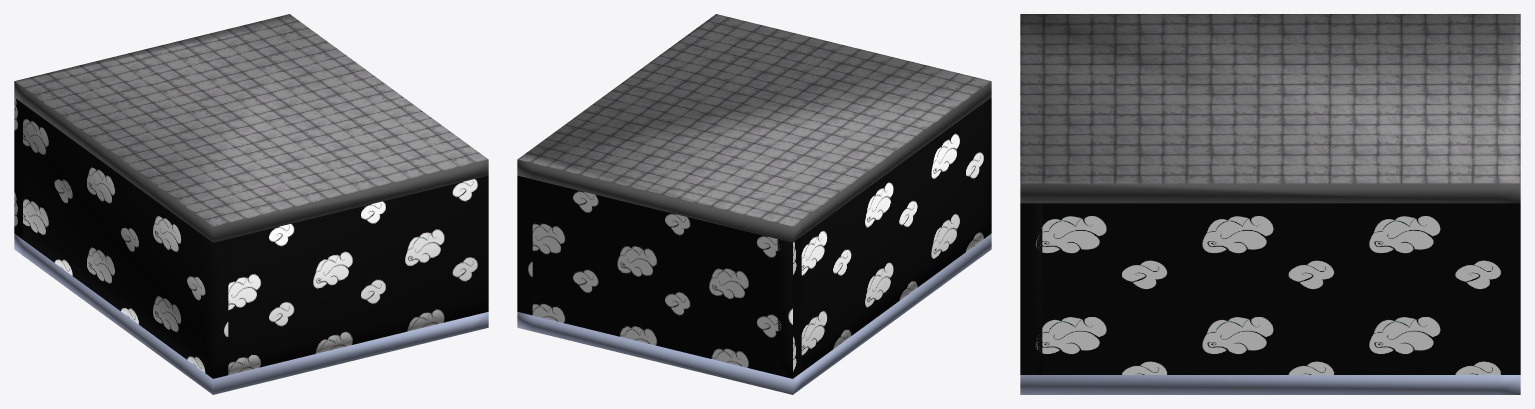
The model's file is LevelTuto.fbx.
3 views of the same model, side by side, from view 1: azimuth 30°, elevation 25°; view 2: azimuth 150°, elevation 25°; view 3: azimuth 270°, elevation 25° (orthographic). The views are drawn at different scales.
Visible parts, largest first — view 1: cap, wall.001, wall.003, ground, wall; view 2: cap, wall, wall.003, ground, wall.002; view 3: cap, wall.002, ground, wall.001.
Boxes of the visible parts, x1,y1,x2,y2 form: cap: [14, 14, 488, 242]; wall.001: [228, 175, 488, 374]; wall.003: [23, 104, 228, 378]; ground: [14, 233, 488, 394]; wall: [14, 97, 22, 239]; cap: [517, 14, 991, 242]; wall: [532, 179, 801, 378]; wall.003: [777, 97, 991, 378]; ground: [517, 233, 991, 394]; wall.002: [517, 175, 532, 315]; cap: [1020, 14, 1520, 203]; wall.002: [1020, 203, 1520, 374]; ground: [1020, 375, 1520, 394]; wall.001: [1028, 203, 1042, 374].
Size of the model in its own units: 36 by 21 by 45.
